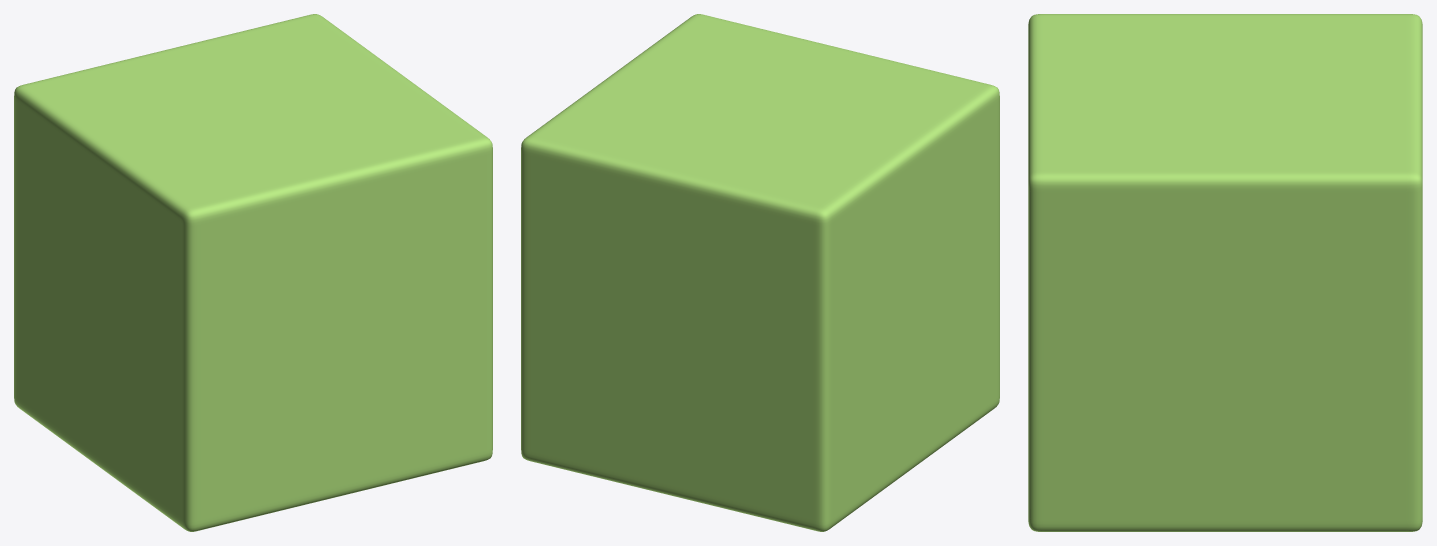
3 views of the same model, side by side, from view 1: azimuth 30°, elevation 25°; view 2: azimuth 150°, elevation 25°; view 3: azimuth 270°, elevation 25° (orthographic). The views are drawn at different scales.
Visible parts, largest first — view 1: Cube; view 2: Cube; view 3: Cube.
Part boxes in pixels (bbox=[...]): Cube: bbox=[14, 14, 492, 531]; Cube: bbox=[521, 14, 999, 531]; Cube: bbox=[1028, 14, 1422, 531].
Size of the model in its own units: 100 by 100 by 100.
